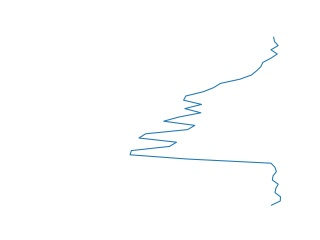proximalDeepseaFan: (128, 36, 288, 210)
